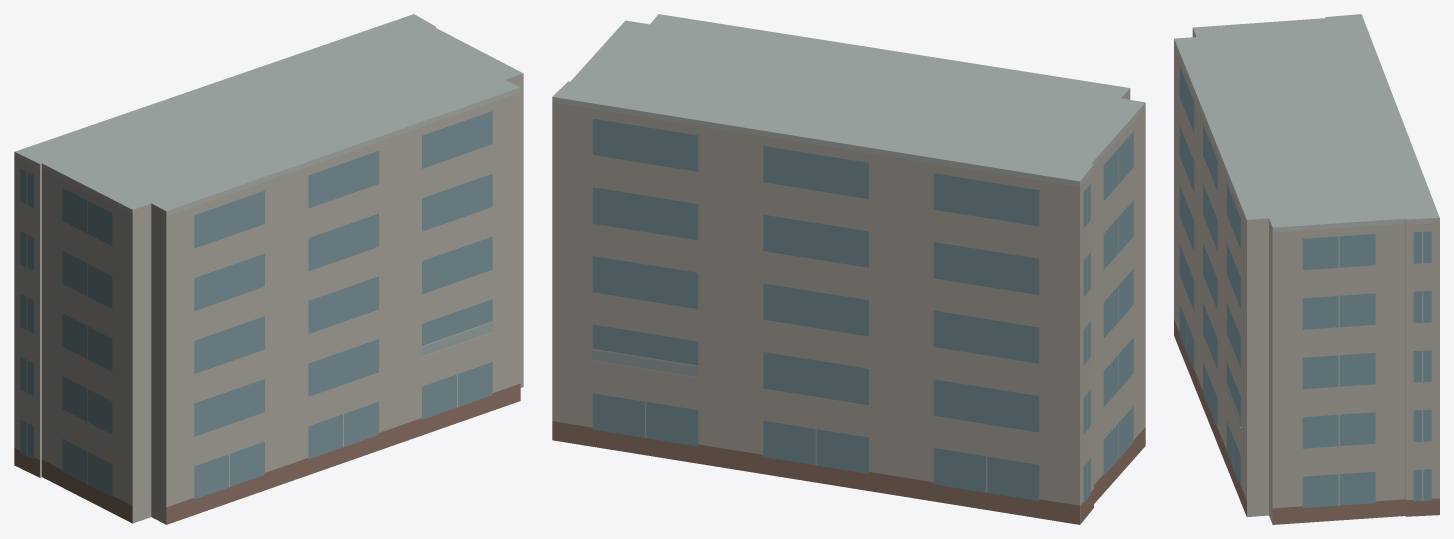
Rendered from survey-upis-32749508.glb.
3 renders of one model, left to right at view 1: azimuth 30°, elevation 25°; view 2: azimuth 150°, elevation 25°; view 3: azimuth 270°, elevation 25°, orthographic. The views are drawn at different scales.
Visible parts, largest first — view 1: survey-upis-32749508.tmp; view 2: survey-upis-32749508.tmp; view 3: survey-upis-32749508.tmp.
Boxes of the visible parts, x1,y1,x2,y2 form: survey-upis-32749508.tmp: (14, 14, 523, 524); survey-upis-32749508.tmp: (552, 14, 1145, 524); survey-upis-32749508.tmp: (1174, 14, 1439, 524).
Size of the model in its own units: 23.53 by 15.25 by 12.37.
